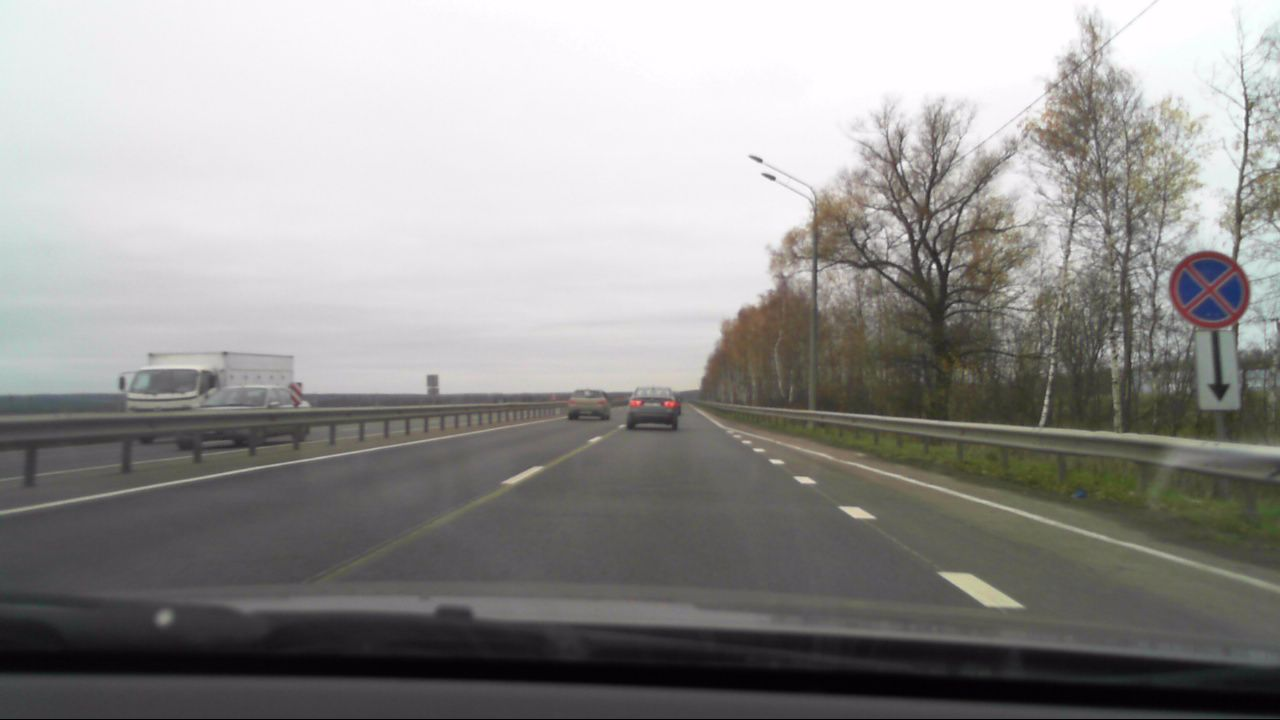No Parking: (1169, 250, 1252, 328)
